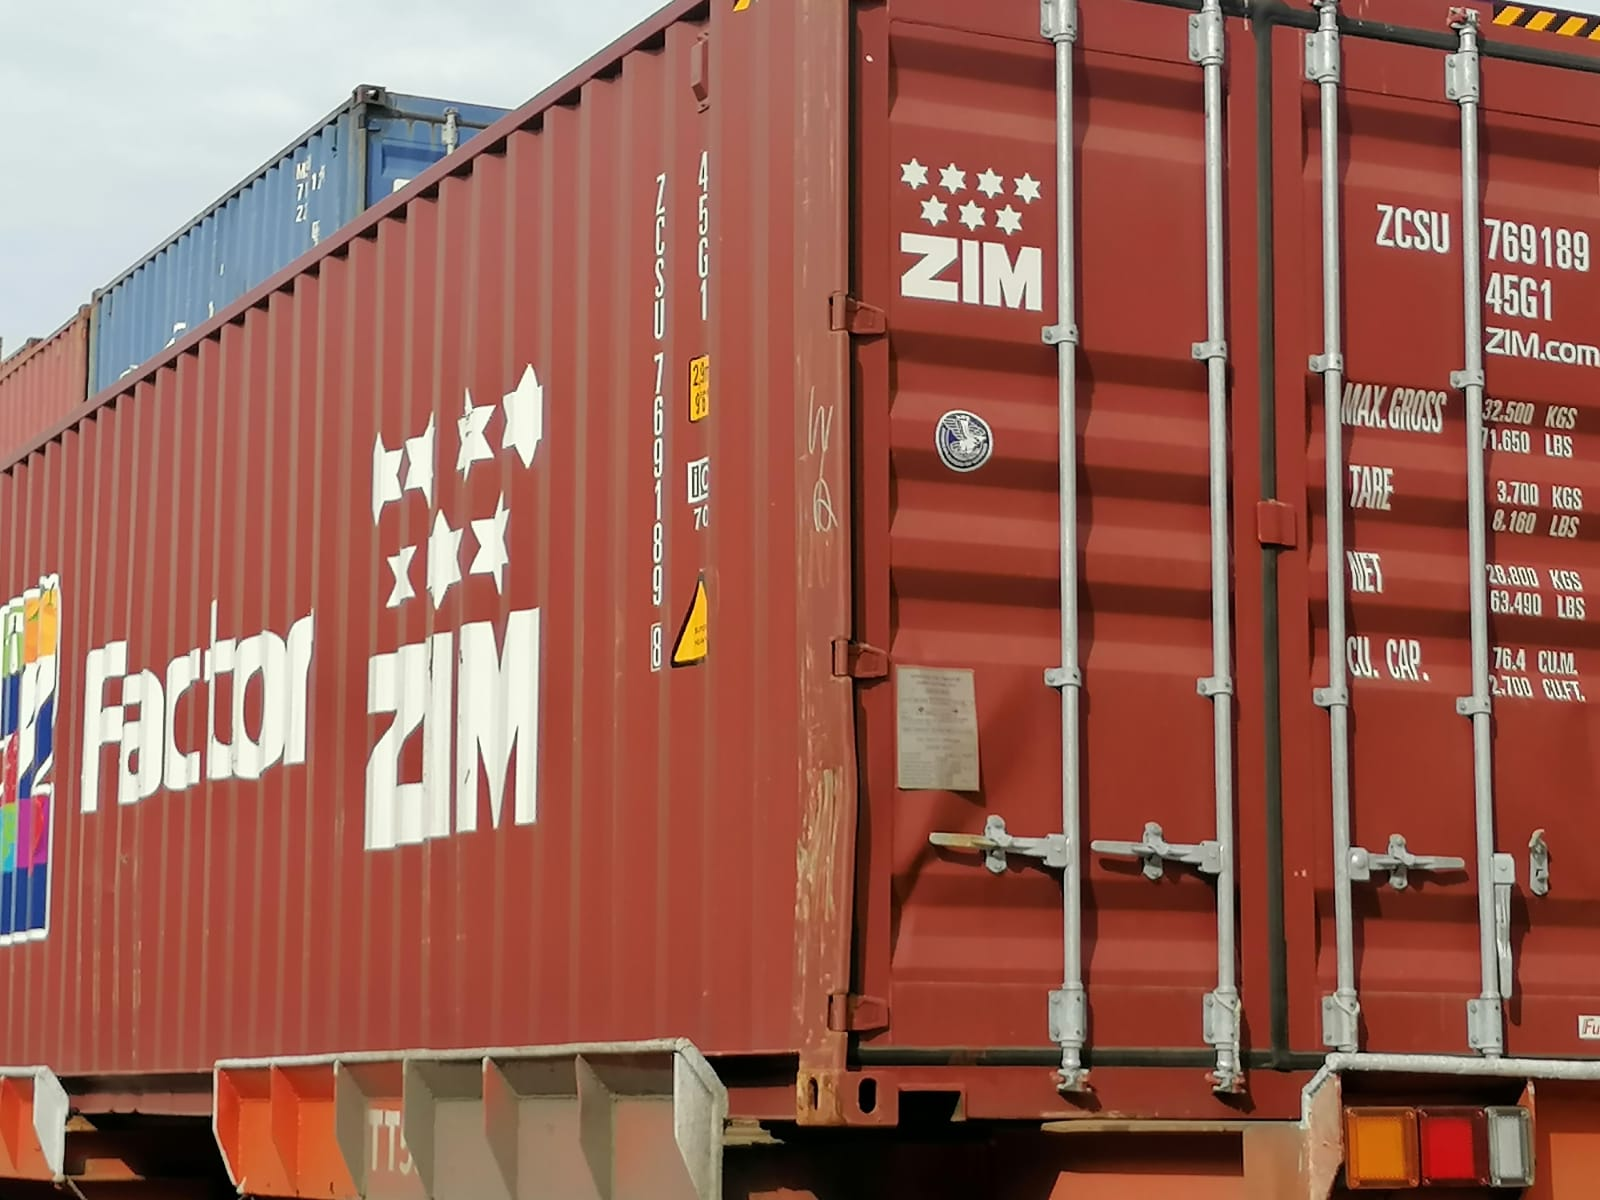bulged: (859, 633, 1017, 920)
